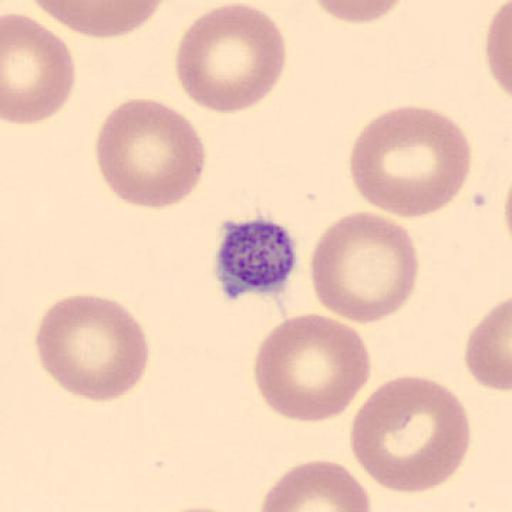Platelet: (210, 214, 301, 302)
RBC: (349, 372, 472, 495), (349, 104, 474, 219), (251, 311, 373, 424), (308, 209, 420, 326), (174, 2, 288, 116), (94, 96, 208, 210), (34, 292, 151, 402), (1, 12, 77, 126), (257, 457, 373, 512), (30, 0, 165, 39), (463, 294, 512, 393), (485, 0, 512, 103), (311, 0, 410, 24), (502, 176, 512, 262), (157, 503, 246, 512), (502, 168, 512, 248)
